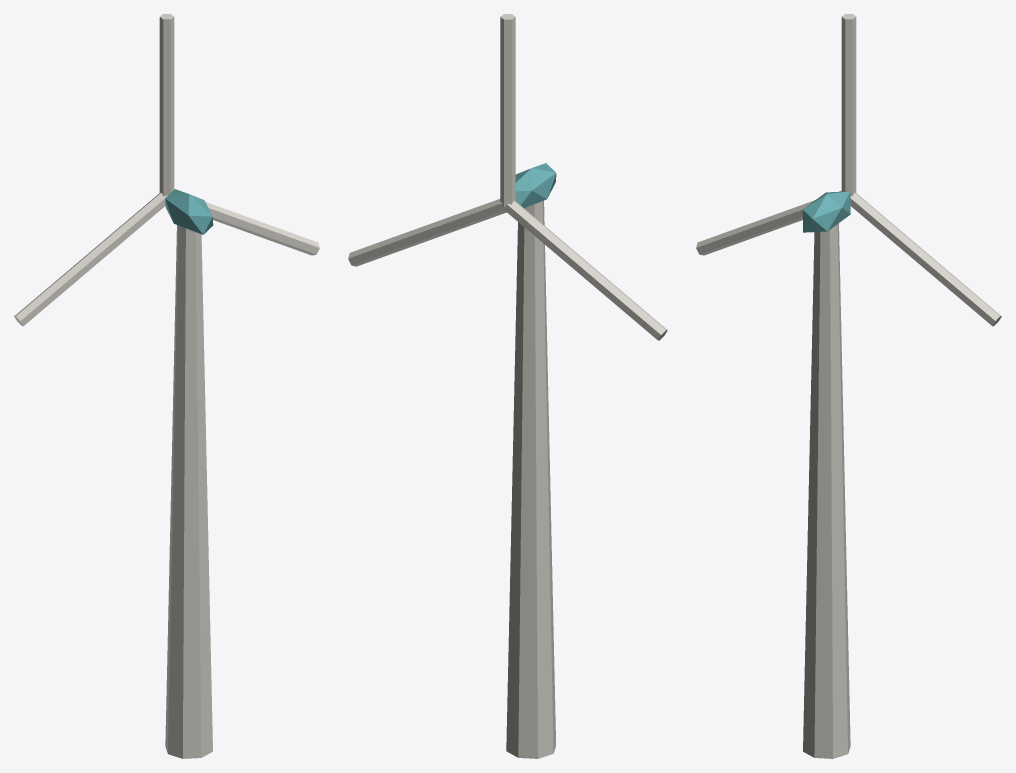
File: wind_turbine.glb
3 renders of one model, left to right at view 1: azimuth 30°, elevation 25°; view 2: azimuth 150°, elevation 25°; view 3: azimuth 330°, elevation 25°, orthographic. The views are drawn at different scales.
Visible parts, largest first — view 1: wind_turbine__tower, wind_turbine__turbine_blade, wind_turbine__turbine_blade.002, wind_turbine__turbine_blade.001, wind_turbine__nacelle; view 2: wind_turbine__tower, wind_turbine__turbine_blade, wind_turbine__turbine_blade.002, wind_turbine__turbine_blade.001, wind_turbine__nacelle; view 3: wind_turbine__tower, wind_turbine__turbine_blade, wind_turbine__turbine_blade.001, wind_turbine__turbine_blade.002, wind_turbine__nacelle.
Part boxes in pixels (bbox=[...]): wind_turbine__tower: bbox=[165, 225, 212, 758]; wind_turbine__turbine_blade: bbox=[159, 14, 174, 196]; wind_turbine__turbine_blade.002: bbox=[14, 192, 167, 326]; wind_turbine__turbine_blade.001: bbox=[205, 202, 319, 255]; wind_turbine__nacelle: bbox=[165, 189, 213, 234]; wind_turbine__tower: bbox=[506, 200, 555, 758]; wind_turbine__turbine_blade: bbox=[500, 14, 515, 206]; wind_turbine__turbine_blade.002: bbox=[504, 201, 667, 340]; wind_turbine__turbine_blade.001: bbox=[348, 199, 506, 266]; wind_turbine__nacelle: bbox=[515, 163, 556, 207]; wind_turbine__tower: bbox=[803, 223, 850, 758]; wind_turbine__turbine_blade: bbox=[841, 14, 856, 196]; wind_turbine__turbine_blade.001: bbox=[850, 192, 1001, 326]; wind_turbine__turbine_blade.002: bbox=[696, 190, 841, 255]; wind_turbine__nacelle: bbox=[802, 191, 850, 232].
Size of the model in its own units: 14.16 by 32 by 3.63.
